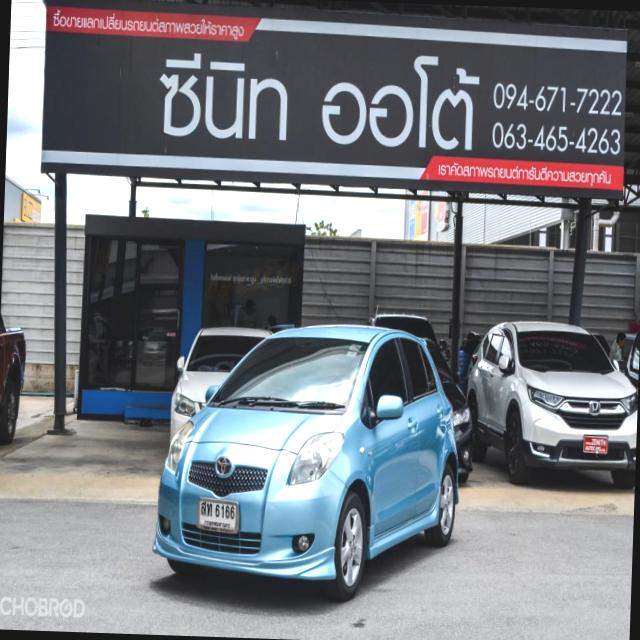license_plate: (196, 496, 241, 533), (582, 434, 610, 455)
